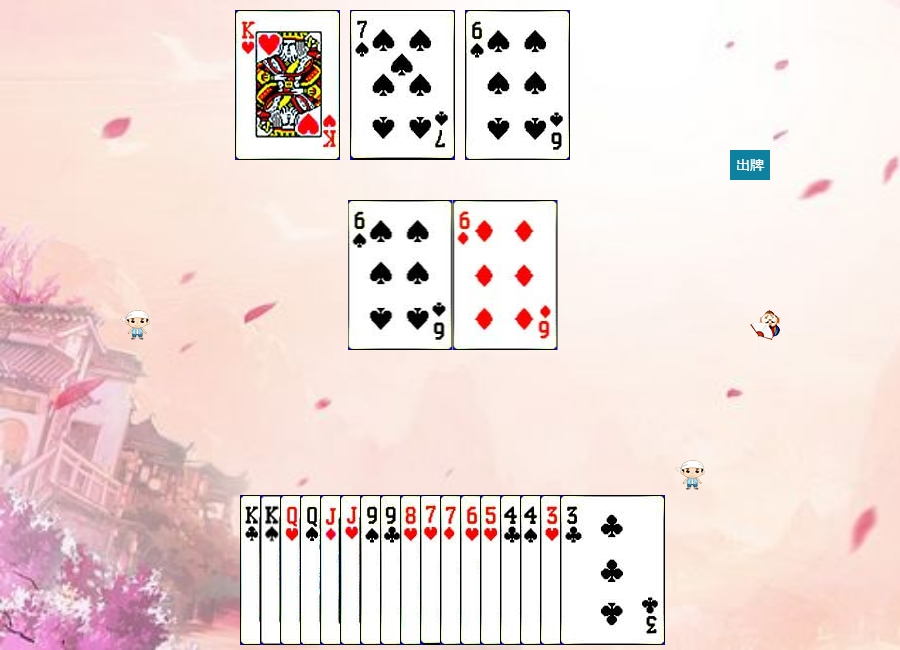11~1: (320, 495, 425, 645)
11~3: (340, 495, 445, 645)
12~3: (280, 495, 385, 645)
12~4: (300, 495, 405, 645)
13~2: (240, 495, 345, 645)
13~3: (235, 10, 340, 160)
13~4: (260, 495, 365, 645)
3~2: (560, 495, 665, 645)
3~3: (540, 495, 645, 645)
4~2: (500, 495, 605, 645)
4~4: (520, 495, 625, 645)
5~3: (480, 495, 585, 645)
6~1: (453, 200, 558, 350)
6~3: (460, 495, 565, 645)
6~4: (465, 10, 570, 160), (348, 200, 453, 350)
7~1: (440, 495, 545, 645)
7~3: (420, 495, 525, 645)
7~4: (350, 10, 455, 160)
8~3: (400, 495, 505, 645)
9~2: (380, 495, 485, 645)
9~4: (360, 495, 465, 645)
